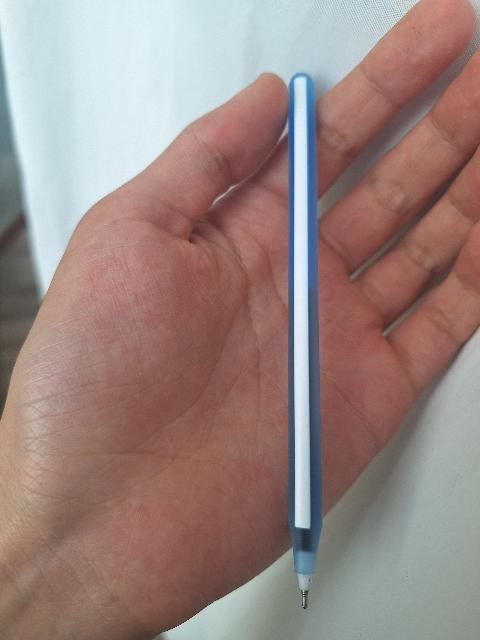writing_tool: (284, 69, 327, 610)
